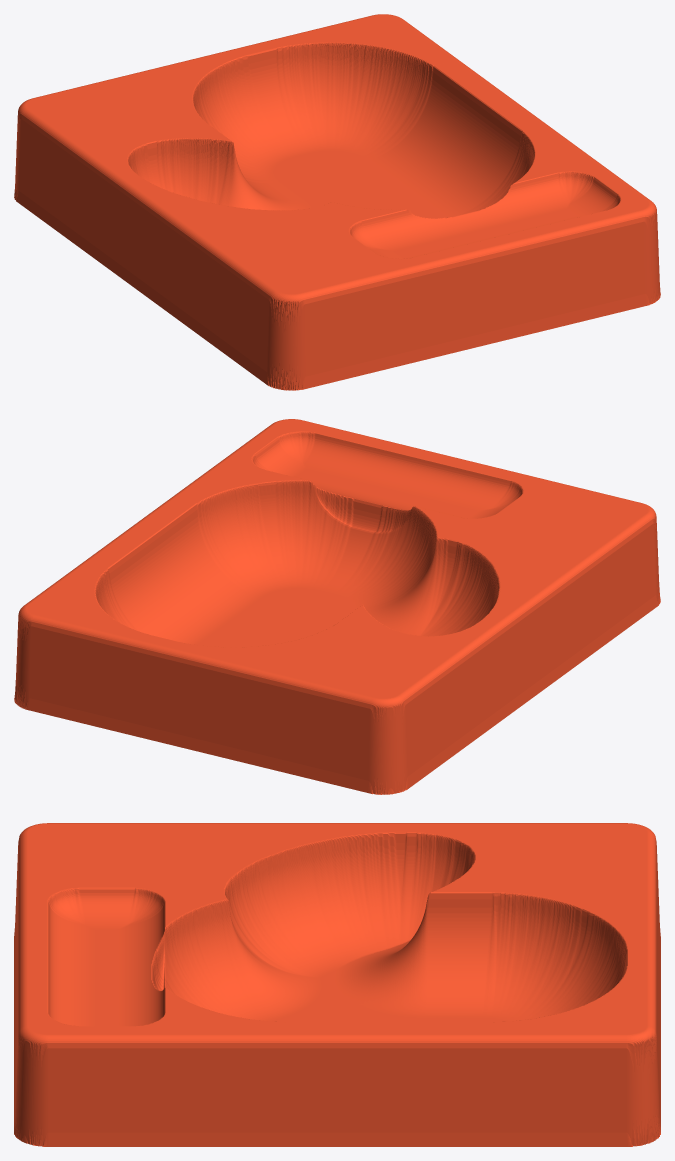
File: mold.glb
3 renders of one model, top to bottom at view 1: azimuth 30°, elevation 25°; view 2: azimuth 150°, elevation 25°; view 3: azimuth 270°, elevation 25°, orthographic. The views are drawn at different scales.
Parts seen in each view (by area): view 1: geometry_0; view 2: geometry_0; view 3: geometry_0.
Boxes of the visible parts, x1,y1,x2,y2 form: geometry_0: [14, 14, 660, 390]; geometry_0: [14, 419, 660, 794]; geometry_0: [14, 823, 660, 1146].
Bounding box in the file's own units: 0.1389 × 0.031 × 0.1709.
